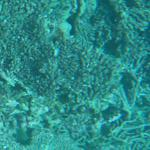dead: (9, 9, 145, 139)
